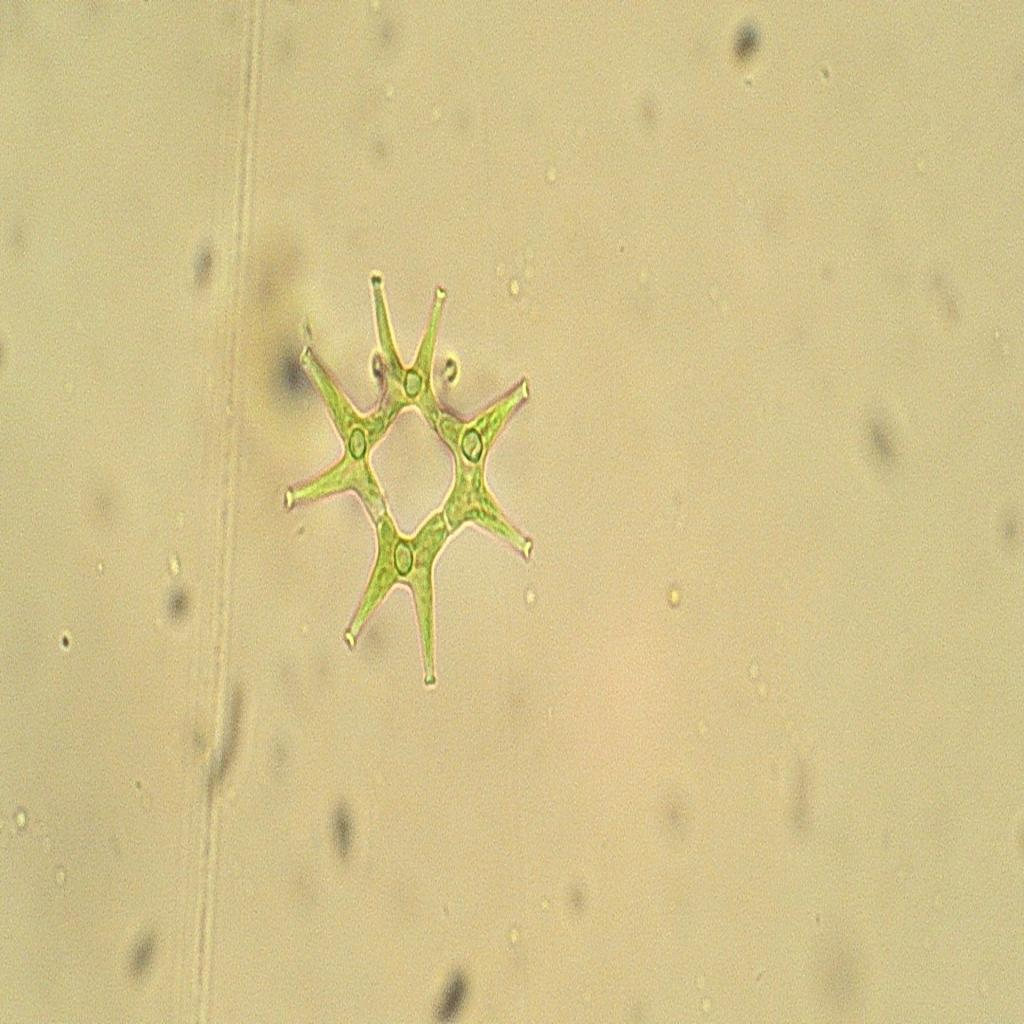Pediastrum_75O: (274, 247, 556, 695)
